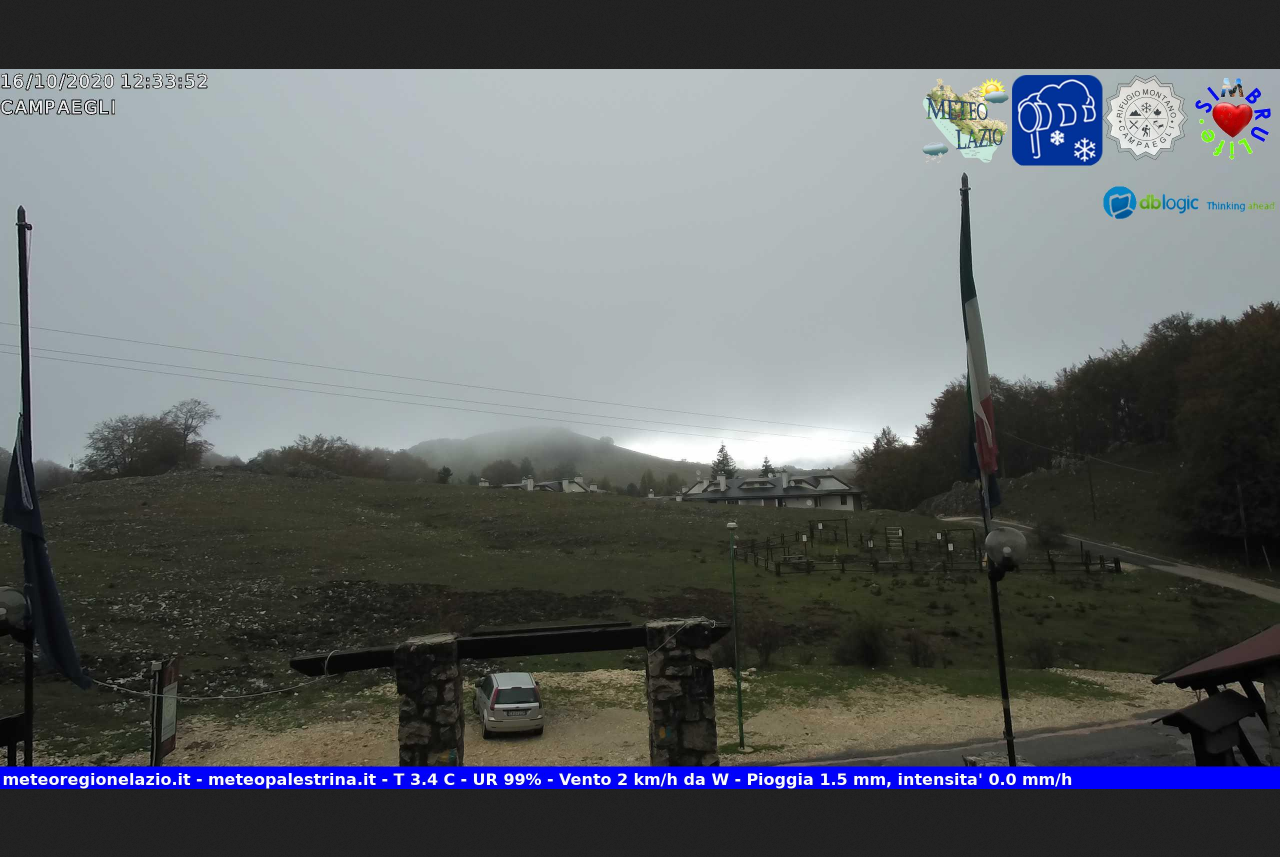no: (5, 408, 89, 685), (953, 193, 1000, 519)
